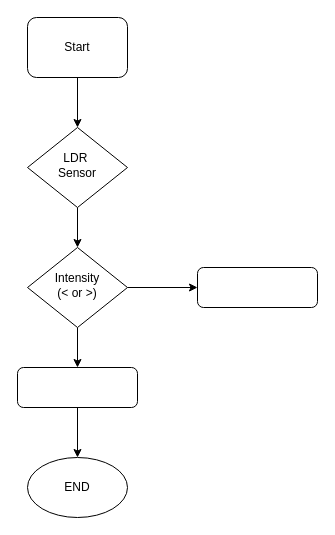
The diagram is 335 pixels wide and 535 high, and some of its shapes have lost their labels. The centre of each missing label's shape, as x and y in pixels:
"Floodlights will off" goes at (77,387).
"Floodlights will on" goes at (257,287).
